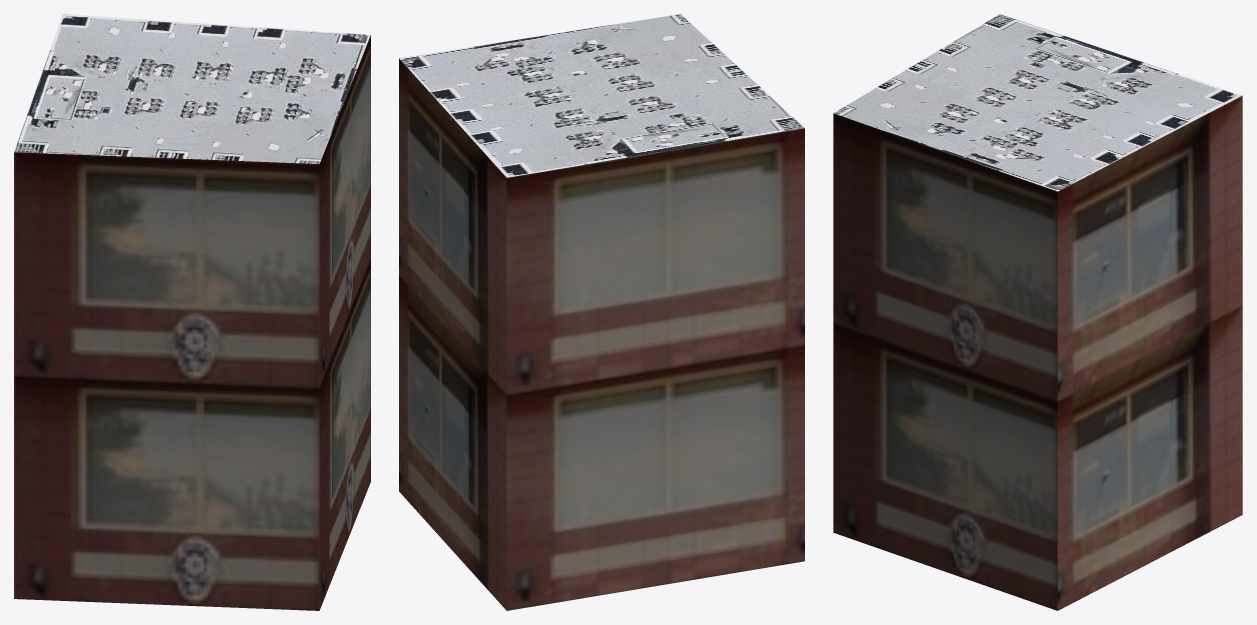
Rendered from ResTex__1352.fbx.
3 views of the same model, side by side, from view 1: azimuth 30°, elevation 25°; view 2: azimuth 150°, elevation 25°; view 3: azimuth 270°, elevation 25° (orthographic). The views are drawn at different scales.
Visible parts, largest first — view 1: CityEngineMaterial_13_m, CityEngineMaterial_4_m; view 2: CityEngineMaterial_13_m, CityEngineMaterial_4_m; view 3: CityEngineMaterial_13_m, CityEngineMaterial_4_m.
Boxes of the visible parts, box(x1,y1,x2,y2) form: CityEngineMaterial_13_m: box(14, 35, 370, 610); CityEngineMaterial_4_m: box(14, 14, 370, 163); CityEngineMaterial_13_m: box(399, 58, 804, 610); CityEngineMaterial_4_m: box(399, 14, 804, 177); CityEngineMaterial_13_m: box(833, 95, 1242, 610); CityEngineMaterial_4_m: box(834, 14, 1241, 191).
Size of the model in its own units: 5.45 by 6 by 5.31.
2 materials, 2 textured.
